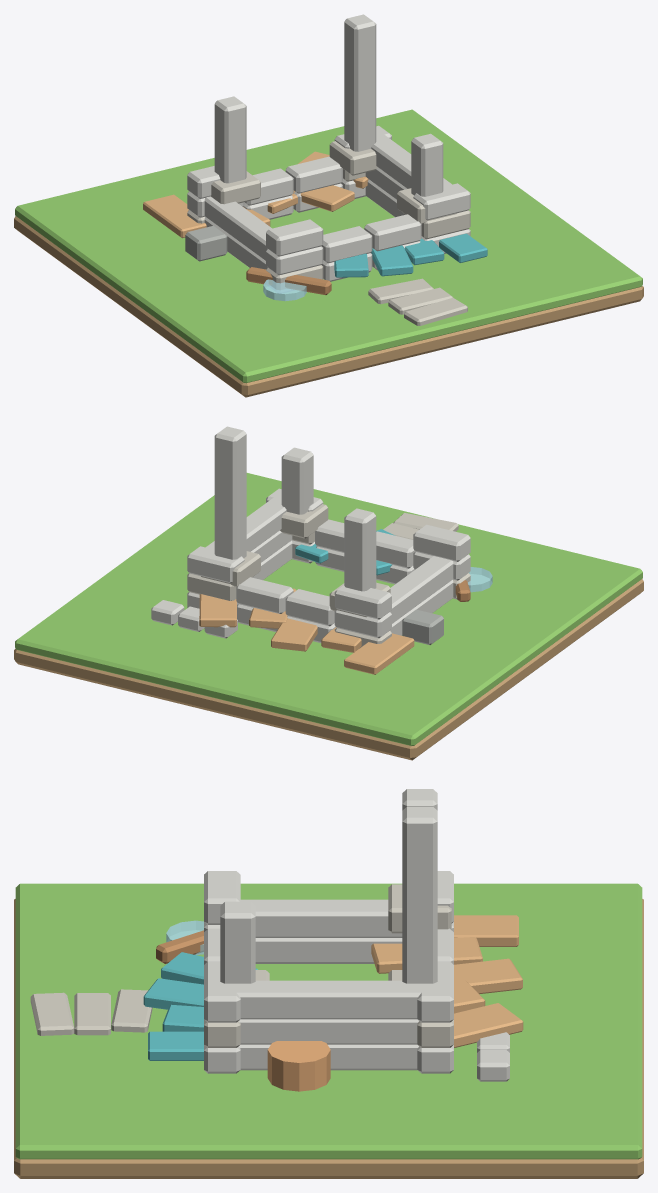
The model's file is tower_l04_ruined.glb.
3 renders of one model, top to bottom at view 1: azimuth 30°, elevation 25°; view 2: azimuth 150°, elevation 25°; view 3: azimuth 270°, elevation 25°, orthographic. The views are drawn at different scales.
Visible parts, largest first — view 1: tower_l04_grass_tile, tower_l04_earth_tile, snapped_upright_0.58_0.52, snapped_upright_-0.58_0.52, ruin_stone_return_1_-0.72, snapped_upright_0.58_-0.52, ruin_stone_course_2_-1_0, ruin_stone_course_1_-1_2, ruin_stone_course_1_1_2, ruin_stone_return_2_0.72, collapsed_deck_0, ruin_stone_course_1_-1_1 (+23 smaller); view 2: tower_l04_grass_tile, tower_l04_earth_tile, snapped_upright_0.58_0.52, snapped_upright_-0.58_0.52, ruin_stone_return_1_-0.72, snapped_upright_0.58_-0.52, collapsed_deck_0, ruin_stone_course_2_-1_0, ruin_stone_course_1_1_2, ruin_stone_course_2_1_0, ruin_stone_return_2_0.72, ruin_stone_course_1_1_1 (+19 smaller); view 3: tower_l04_grass_tile, tower_l04_earth_tile, ruin_stone_return_2_0.72, snapped_upright_0.58_0.52, ruin_stone_return_1_-0.72, ruin_stone_return_1_0.72, ruin_stone_return_0_-0.72, ruin_stone_return_0_0.72, fallen_bell, snapped_upright_0.58_-0.52, collapsed_deck_4, collapsed_deck_0 (+25 smaller).
Boxes of the visible parts, x1,y1,x2,y2 form: tower_l04_grass_tile: (15, 109, 642, 383); tower_l04_earth_tile: (14, 216, 643, 397); snapped_upright_0.58_0.52: (344, 14, 376, 151); snapped_upright_-0.58_0.52: (214, 96, 246, 183); ruin_stone_return_1_-0.72: (204, 196, 271, 260); snapped_upright_0.58_-0.52: (411, 133, 443, 196); ruin_stone_course_2_-1_0: (266, 219, 323, 256); ruin_stone_course_1_-1_2: (364, 214, 421, 251); ruin_stone_course_1_1_2: (285, 156, 342, 193); ruin_stone_return_2_0.72: (371, 134, 451, 188); collapsed_deck_0: (143, 194, 206, 238); ruin_stone_course_1_-1_1: (321, 226, 372, 263); tower_l04_grass_tile: (15, 473, 642, 745); tower_l04_earth_tile: (14, 579, 643, 760); snapped_upright_0.58_0.52: (214, 426, 246, 559); snapped_upright_-0.58_0.52: (344, 508, 376, 591); ruin_stone_return_1_-0.72: (390, 556, 453, 623); snapped_upright_0.58_-0.52: (281, 447, 313, 514); collapsed_deck_0: (344, 633, 414, 674); ruin_stone_course_2_-1_0: (413, 524, 470, 561); ruin_stone_course_1_1_2: (236, 577, 293, 613); ruin_stone_course_2_1_0: (334, 585, 391, 619); ruin_stone_return_2_0.72: (204, 496, 286, 551); ruin_stone_course_1_1_1: (285, 589, 334, 626); tower_l04_grass_tile: (15, 883, 642, 1159); tower_l04_earth_tile: (14, 899, 643, 1178); ruin_stone_return_2_0.72: (236, 980, 421, 1019); snapped_upright_0.58_0.52: (402, 806, 437, 983); ruin_stone_return_1_-0.72: (240, 899, 402, 937); ruin_stone_return_1_0.72: (239, 1019, 418, 1044); ruin_stone_return_0_-0.72: (255, 938, 402, 963); ruin_stone_return_0_0.72: (239, 1044, 418, 1070); fallen_bell: (267, 1041, 330, 1091); snapped_upright_0.58_-0.52: (220, 901, 255, 983); collapsed_deck_4: (454, 1003, 523, 1047); collapsed_deck_0: (454, 915, 518, 946).
Bounding box in the file's own units: 3.6 × 1.76 × 3.6.
